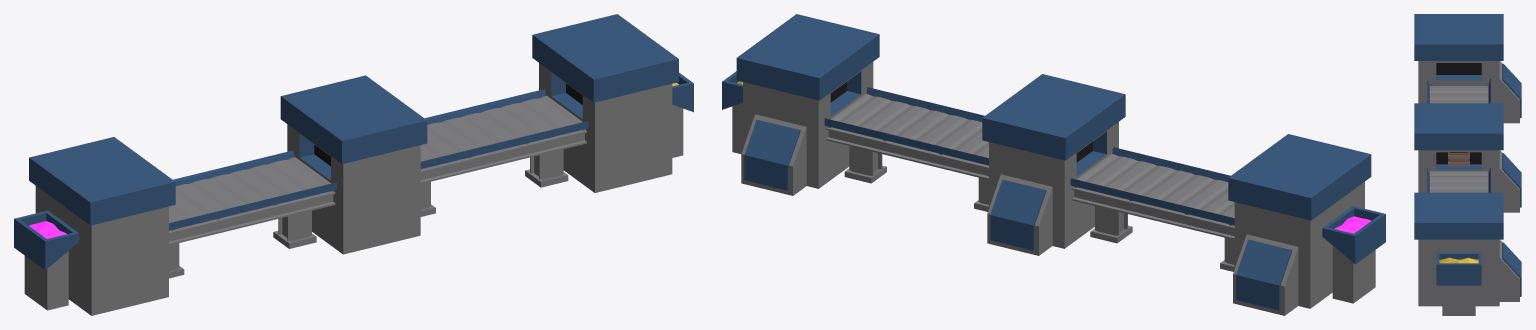
The model's file is conveyor_upd.fbx.
3 renders of one model, left to right at view 1: azimuth 30°, elevation 25°; view 2: azimuth 150°, elevation 25°; view 3: azimuth 270°, elevation 25°, orthographic. The views are drawn at different scales.
Visible parts, largest first — view 1: conveyor, scalable_conveyor_meme; view 2: conveyor, scalable_conveyor_meme; view 3: conveyor, scalable_conveyor_meme, gold_box.
Part boxes in pixels (x1=…): conveyor: x1=14, y1=14, x2=693, y2=315; scalable_conveyor_meme: x1=280, y1=75, x2=427, y2=254; conveyor: x1=722, y1=14, x2=1385, y2=315; scalable_conveyor_meme: x1=982, y1=74, x2=1125, y2=255; conveyor: x1=1414, y1=14, x2=1521, y2=315; scalable_conveyor_meme: x1=1414, y1=103, x2=1521, y2=212; gold_box: x1=1448, y1=152, x2=1469, y2=166.
Bounding box in the file's own units: 1340 × 232 × 264.
